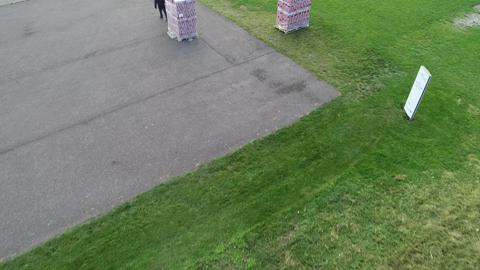RockwoolPallet: (164, 0, 198, 40)
